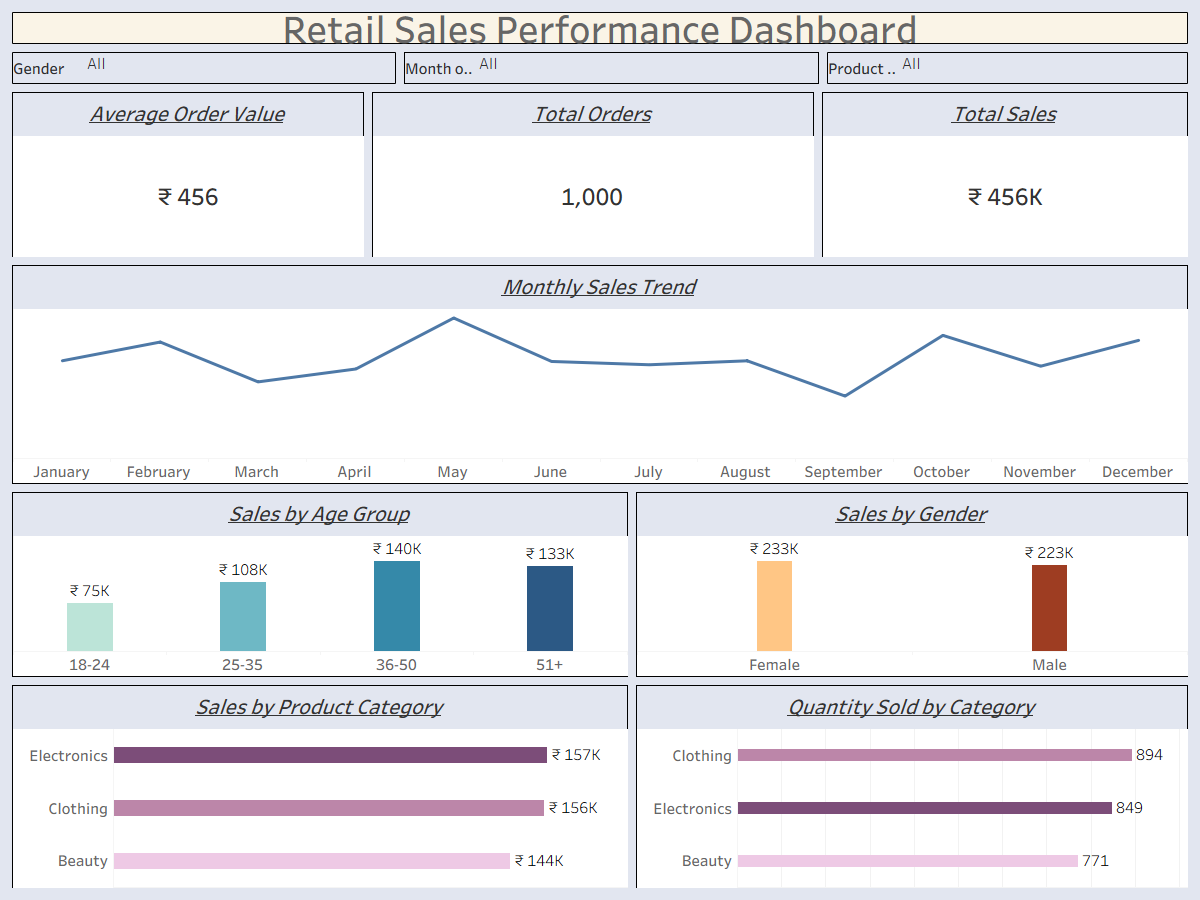

This screenshot's page, from the dashboard's own definition file:
{"tool":"tableau","page":{"name":"Retail Sales Performance Dashboard","canvas":[1200,900],"ordinal":0},"visuals":[{"type":"text","box":[8,8,1184,40]},{"type":"filter","title":"Monthly Sales Trend ","param":"[federated.1e040010alq9kt1bah5830wnn60a].[none:Gender:nk]","box":[8,48,392,40]},{"type":"filter","title":"Monthly Sales Trend ","param":"[federated.1e040010alq9kt1bah5830wnn60a].[mn:Date:ok]","box":[400,48,423,40]},{"type":"filter","title":"Monthly Sales Trend ","param":"[federated.1e040010alq9kt1bah5830wnn60a].[none:Product_Category:nk]","box":[823,48,369,40]},{"type":"worksheet","title":"Average Order Value","mark":"Automatic","box":[8,88,360,173]},{"type":"worksheet","title":"Total Orders","mark":"Automatic","box":[368,88,450,173]},{"type":"worksheet","title":"Total Sales","mark":"Automatic","box":[818,88,374,173]},{"type":"worksheet","title":"Monthly Sales Trend ","mark":"Automatic","rows":["Total_Amount"],"cols":["Date"],"box":[8,261,1184,227]},{"type":"worksheet","title":"Sales by Age group","mark":"Automatic","rows":["Total_Amount"],"cols":["Calculation_0656707813883904"],"box":[8,488,624.3,193]},{"type":"worksheet","title":"Sales by gender","mark":"Bar","rows":["Total_Amount"],"cols":["Gender"],"box":[632.4,488,559.6,193]},{"type":"worksheet","title":"Sales by Product Category","mark":"Automatic","rows":["Product_Category"],"cols":["Total_Amount"],"box":[8,681,624.3,211]},{"type":"worksheet","title":"Quantity sold by Category","mark":"Automatic","rows":["Product_Category"],"cols":["Quantity"],"box":[632.4,681,559.6,211]}]}

Visuals, with their boxes in screenshot pixels (x1, y1, x2, y2), scaled from the page's 1200x900 canvas onto the 1200x900 screenshot:
text: <box>8,8,1192,48</box>
"Monthly Sales Trend " filter: <box>8,48,400,88</box>
"Monthly Sales Trend " filter: <box>400,48,823,88</box>
"Monthly Sales Trend " filter: <box>823,48,1192,88</box>
"Average Order Value" worksheet: <box>8,88,368,261</box>
"Total Orders" worksheet: <box>368,88,818,261</box>
"Total Sales" worksheet: <box>818,88,1192,261</box>
"Monthly Sales Trend " worksheet: <box>8,261,1192,488</box>
"Sales by Age group" worksheet: <box>8,488,632,681</box>
"Sales by gender" worksheet (Bar marks): <box>632,488,1192,681</box>
"Sales by Product Category" worksheet: <box>8,681,632,892</box>
"Quantity sold by Category" worksheet: <box>632,681,1192,892</box>
